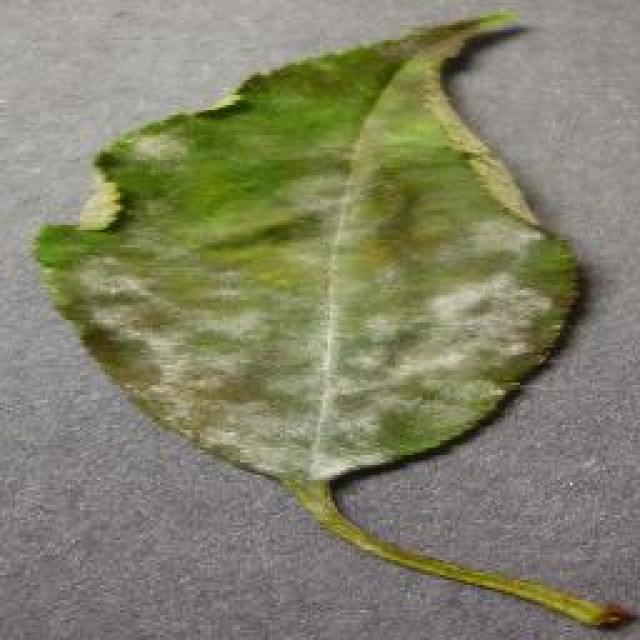Cherry___Powdery_mildew: (15, 0, 627, 638)
